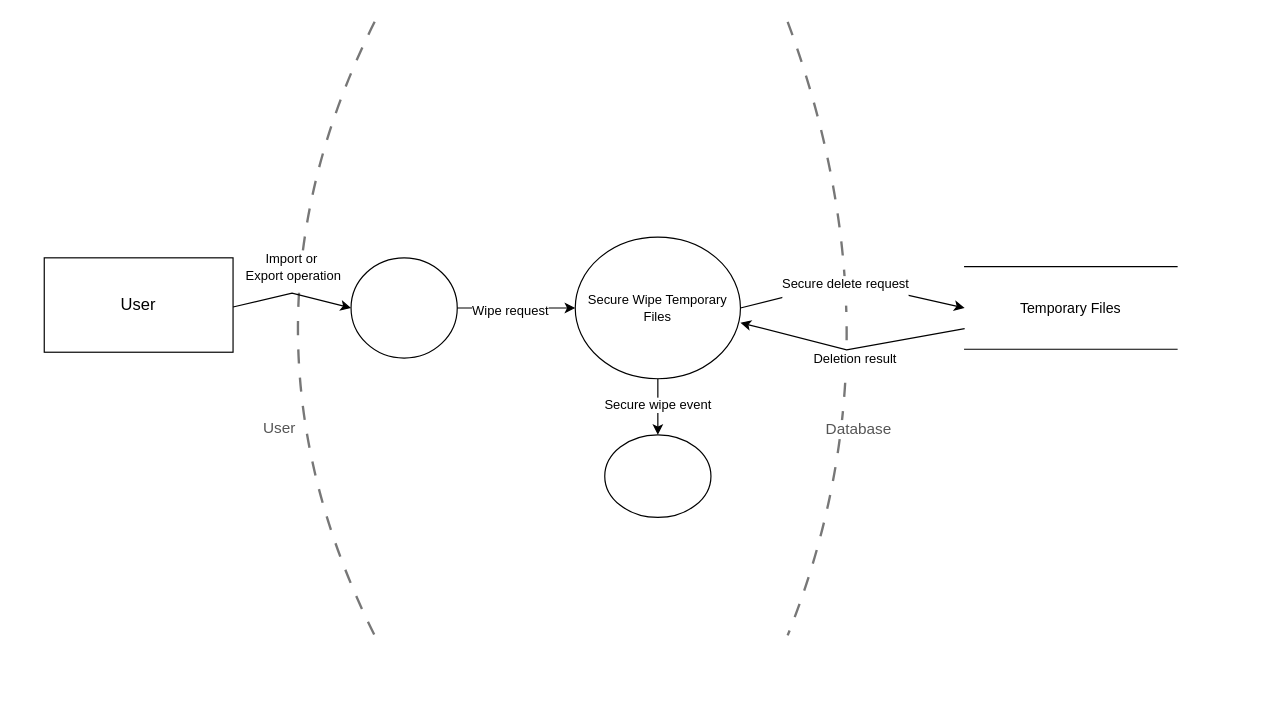
Image size: 1279x726. Some labels were removed from this diagram. The shapes that lost their labels are listed below. From the top down, each one's centre as x and y in pixels, then its label:
the point at 403,307: Import credential or Export Vault
the point at 657,475: Write Audit Logs
